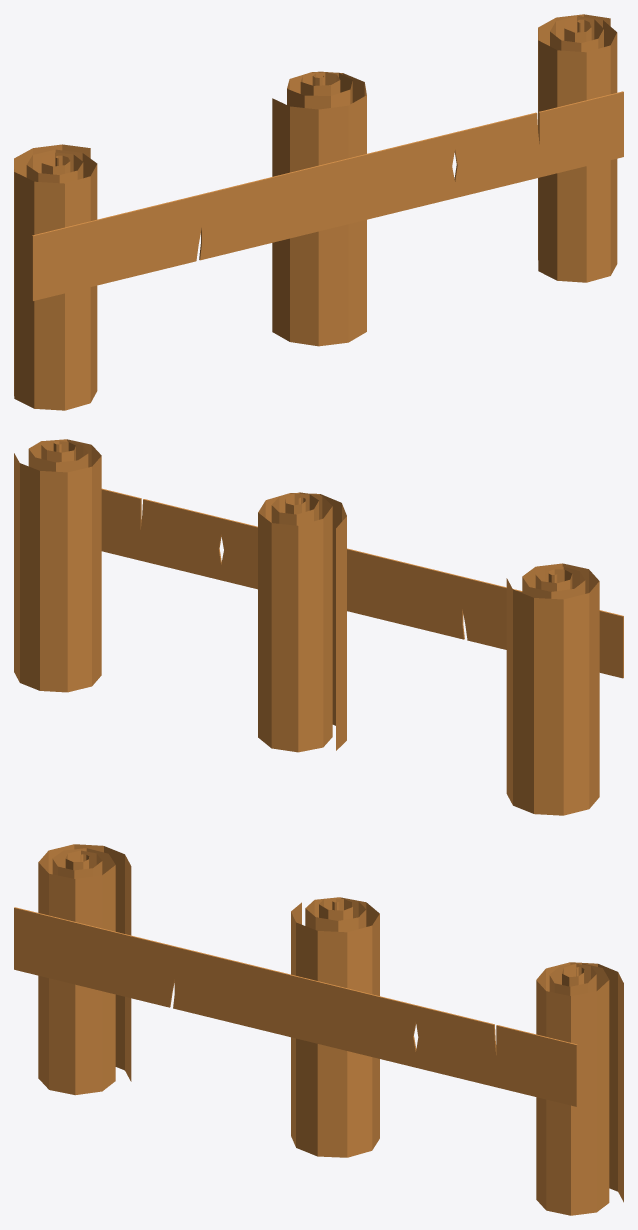
File: PaperFence.fbx
3 renders of one model, top to bottom at view 1: azimuth 30°, elevation 25°; view 2: azimuth 150°, elevation 25°; view 3: azimuth 330°, elevation 25°, orthographic. The views are drawn at different scales.
Parts seen in each view (by area): view 1: Plane.017; view 2: Plane.017; view 3: Plane.017.
Boxes of the visible parts, x1,y1,x2,y2 form: Plane.017: [14, 14, 623, 410]; Plane.017: [14, 439, 623, 815]; Plane.017: [14, 844, 623, 1215].
Size of the model in its own units: 1004 by 394 by 135.
